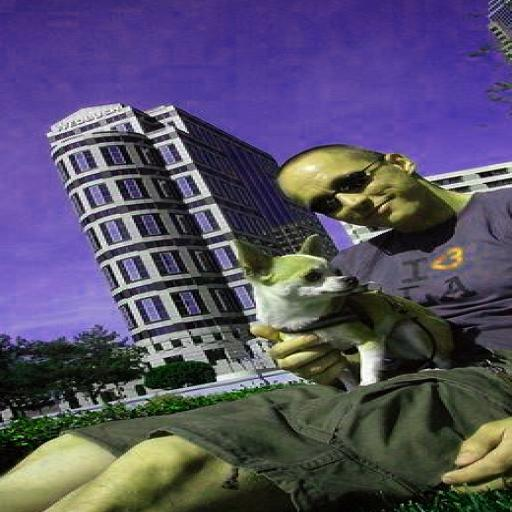dog_face: (230, 242, 360, 317)
